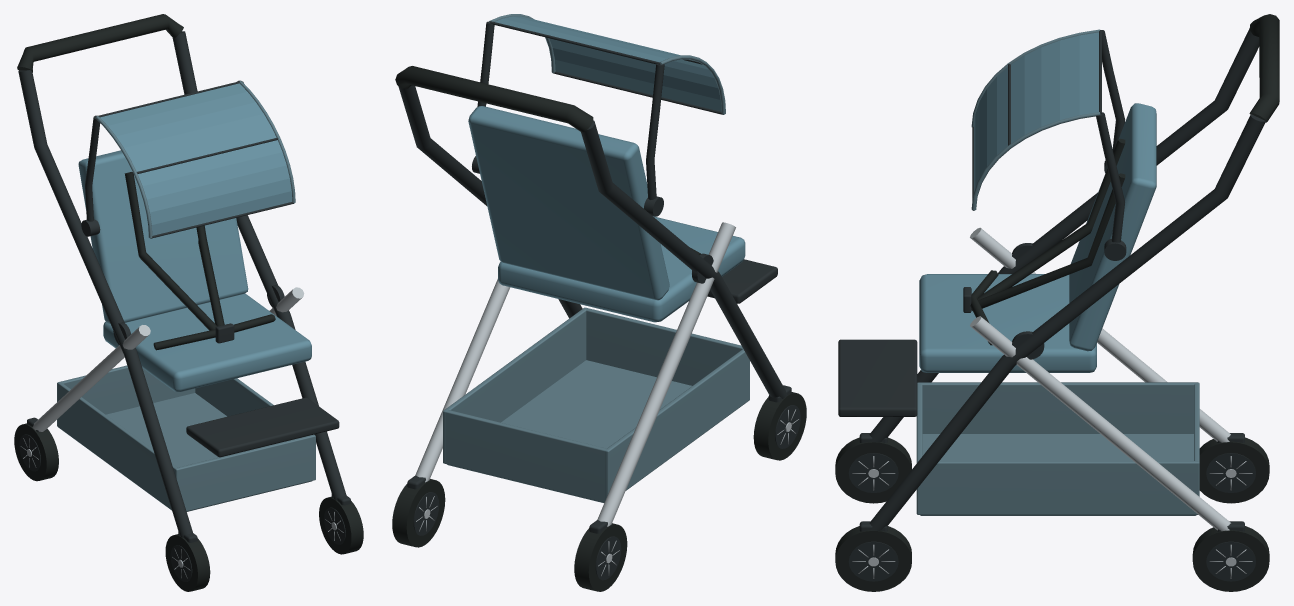
The model's file is compact-stroller.glb.
3 renders of one model, left to right at view 1: azimuth 30°, elevation 25°; view 2: azimuth 150°, elevation 25°; view 3: azimuth 270°, elevation 25°, orthographic. The views are drawn at different scales.
Visible parts, largest first — view 1: compact-stroller authored assembly; view 2: compact-stroller authored assembly; view 3: compact-stroller authored assembly.
Boxes of the visible parts, x1=… form: compact-stroller authored assembly: x1=14, y1=14, x2=363, y2=591; compact-stroller authored assembly: x1=392, y1=14, x2=806, y2=591; compact-stroller authored assembly: x1=835, y1=14, x2=1279, y2=591.
Bounding box in the file's own units: 0.45 × 1.06 × 0.87.
